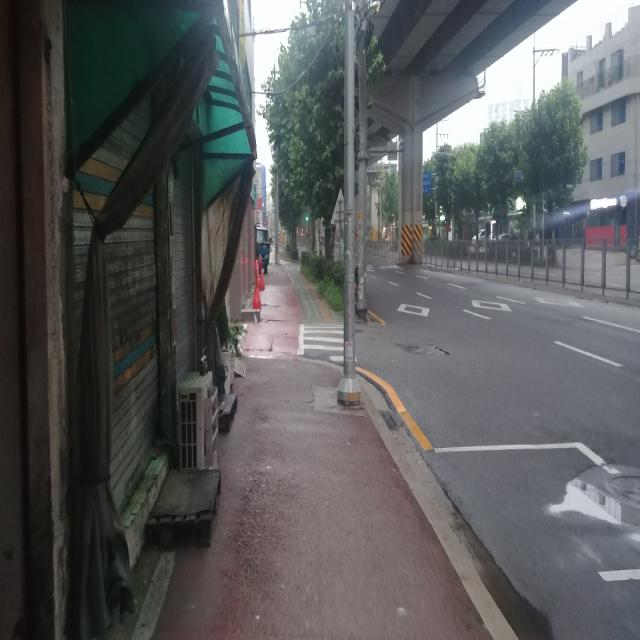횡단보도: (297, 323, 358, 363)
